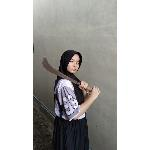Golok: (41, 54, 95, 92)
